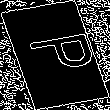P_E: (13, 31, 97, 79)
